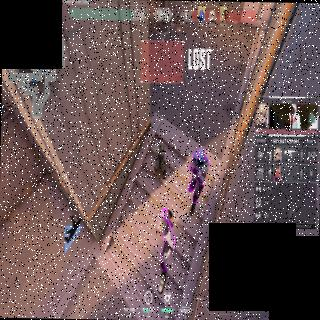ENEMY-BODY: (151, 202, 176, 297), (186, 142, 210, 218)
ENEMY-HEAD: (154, 214, 168, 236), (196, 145, 205, 166)
